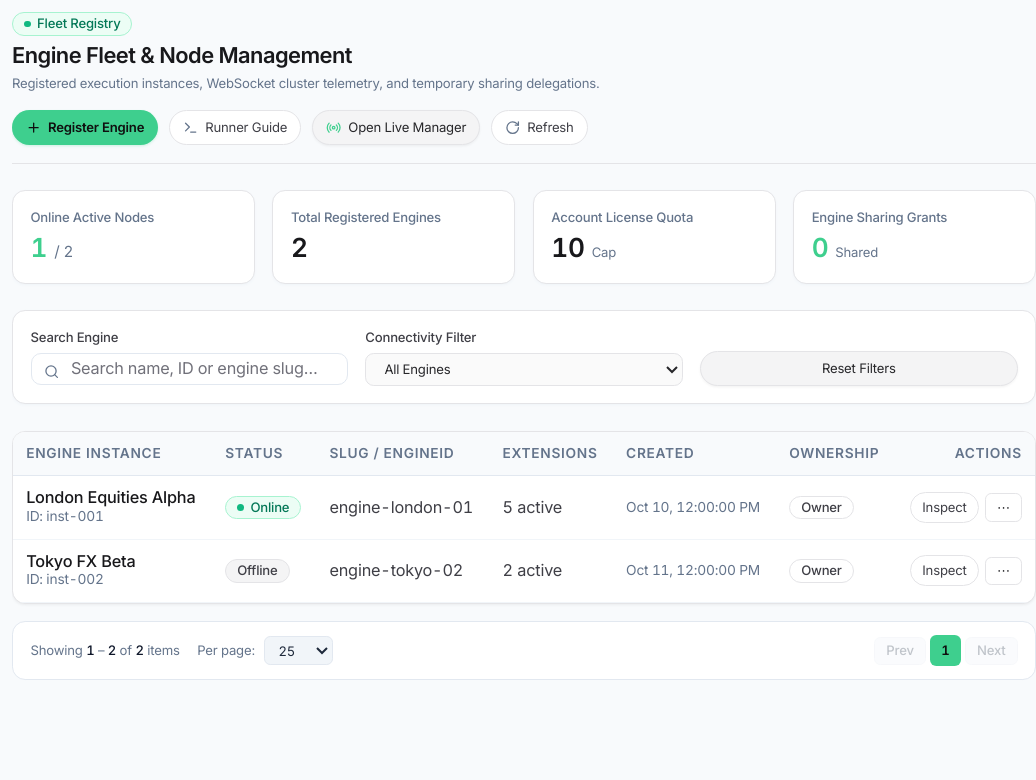
Scenario: Panel Instances Page (Engine Fleet & Node Management) › renders Engine Fleet header, metrics, and filters by search
This screenshot has width=1036, height=780.
expect the heading "Engine Fleet & Node Management" is shown: met, box [12,42,352,68]
expect the button "Register Engine" is shown: met, box [12,110,158,145]
# Filter by search
Type "Tokyo" into the field with placeholder "Search name, ID or engine slug…". click: (189, 369)
box: [30,353,348,385]
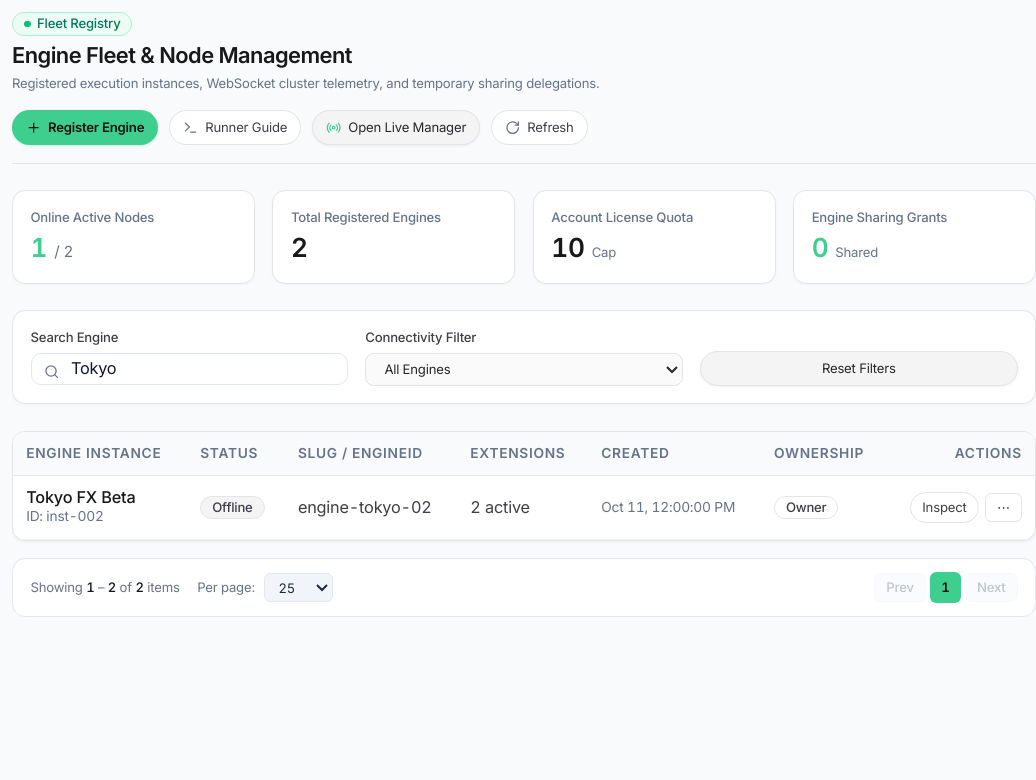
expect the link "Tokyo FX Beta" is shown: met, box [26,487,135,507]
expect the link "London Equities Alpha" is gone: met
